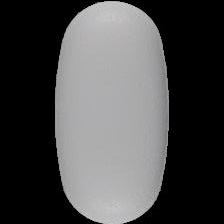0179-0040: (0, 0, 224, 224)
